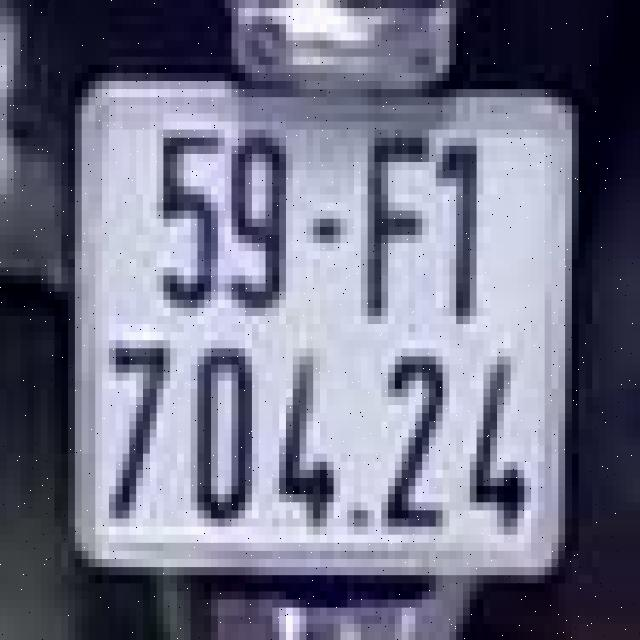0: (187, 328, 269, 531)
1: (436, 110, 490, 336)
2: (368, 340, 456, 551)
4: (272, 336, 348, 539), (460, 336, 528, 555)
5: (140, 118, 221, 336)
7: (95, 320, 177, 531)
9: (225, 118, 292, 328)
F: (354, 118, 429, 336)
